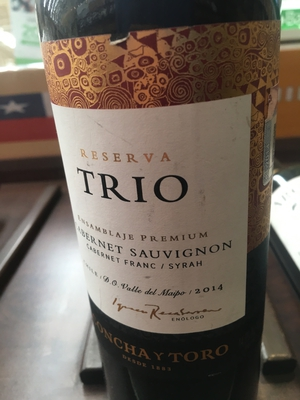trio cabernet sauvignon: (34, 3, 299, 398)
